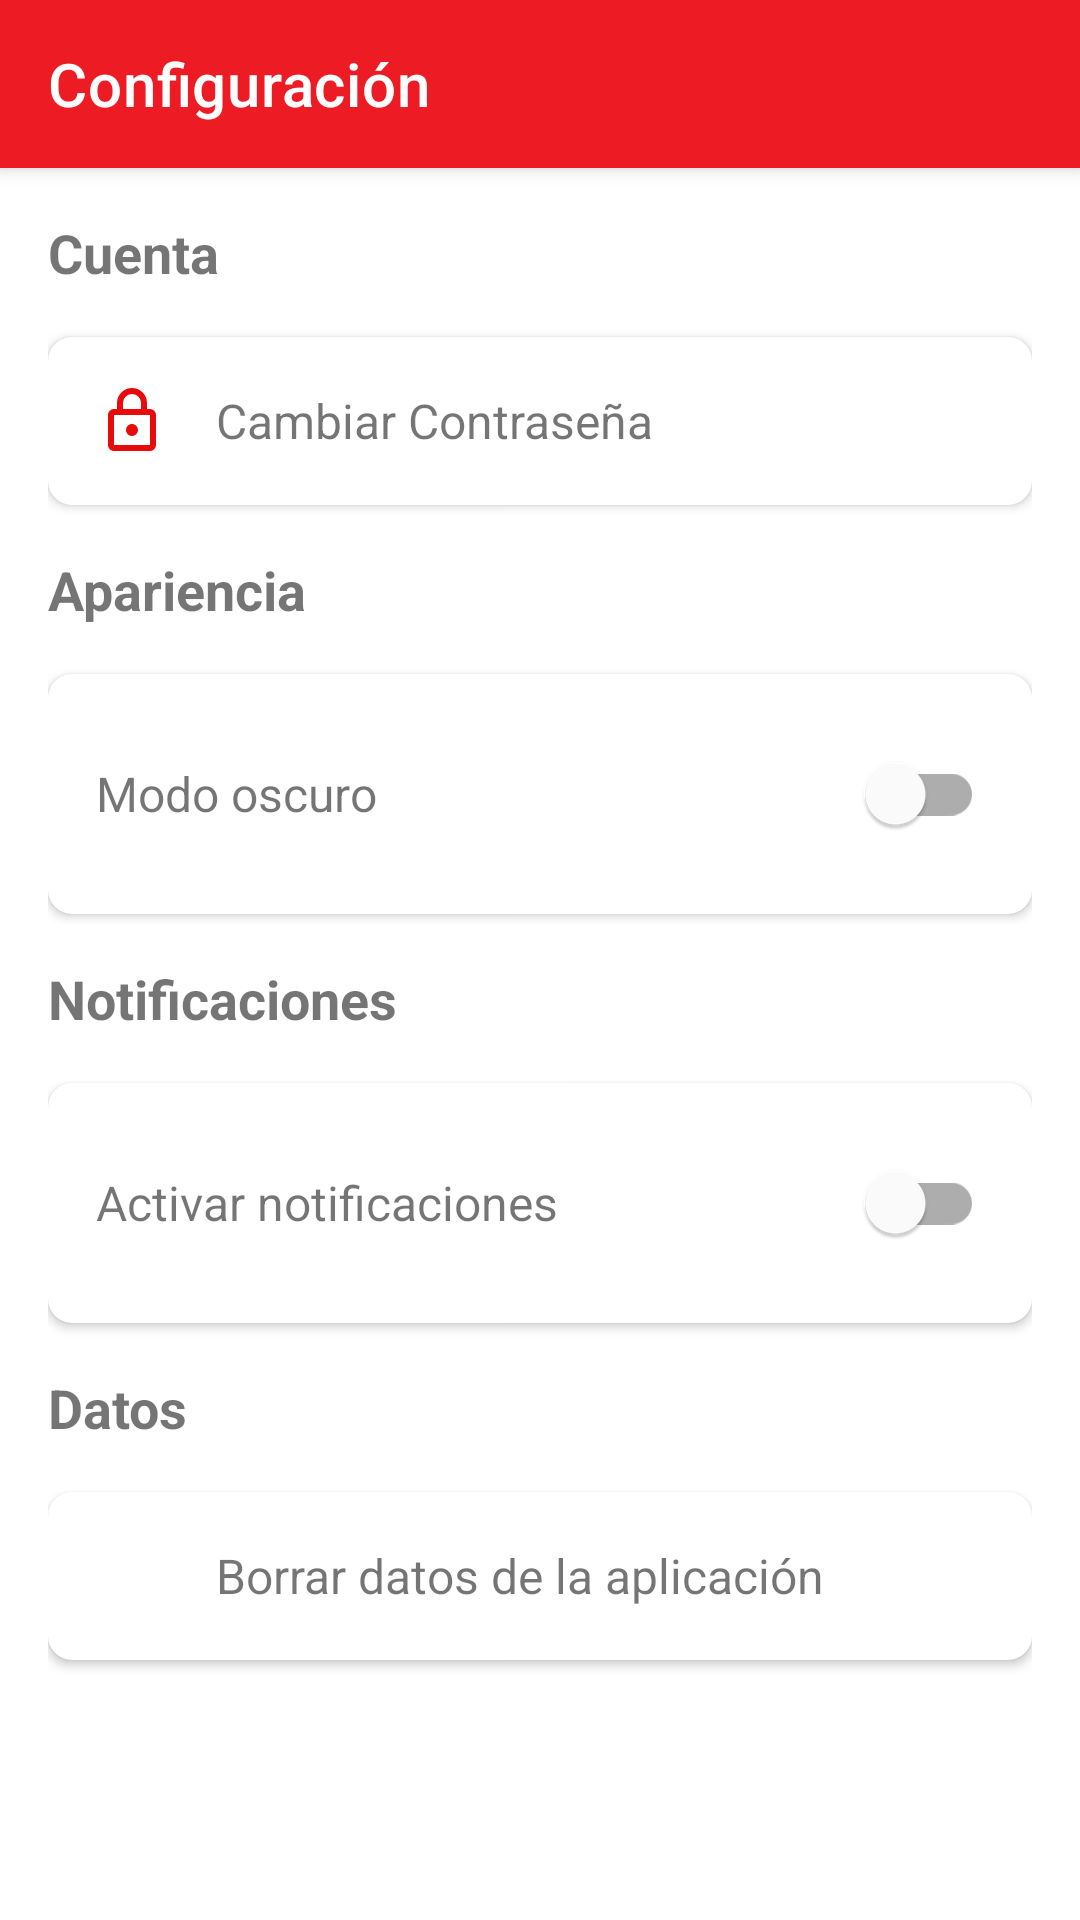

Point at icon controls on the screen. Image size 1080w x 1920h, points as [x,y].
password: [132,419]
